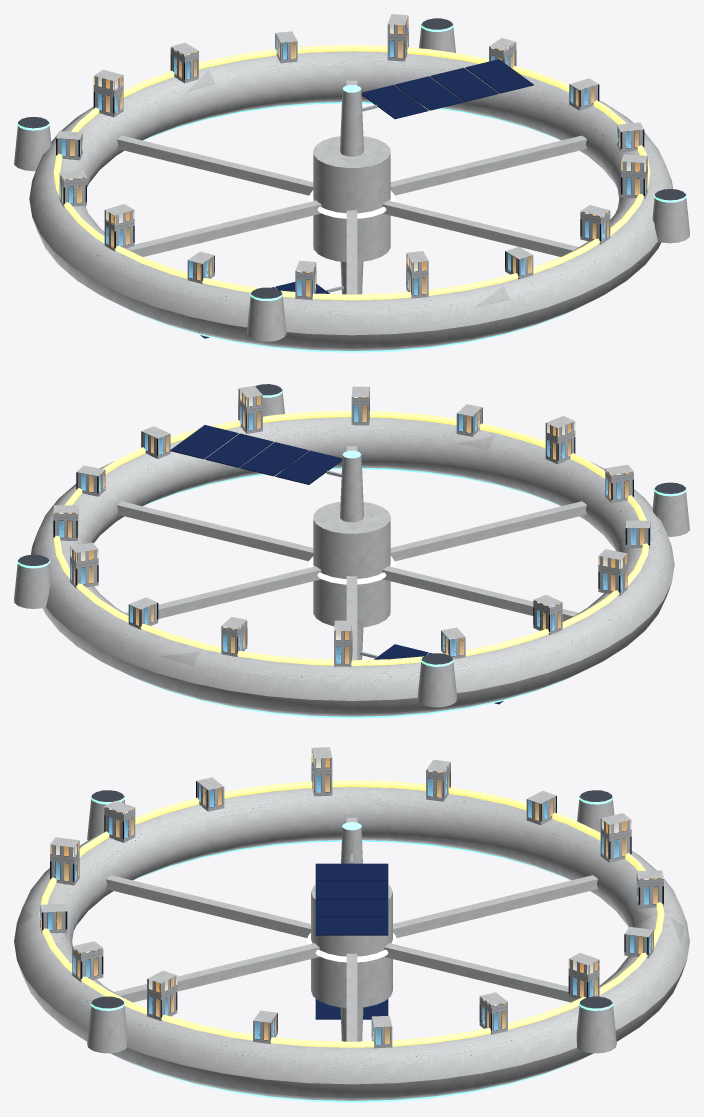
Rendered from orbital_ring_town.glb.
3 renders of one model, top to bottom at view 1: azimuth 30°, elevation 25°; view 2: azimuth 150°, elevation 25°; view 3: azimuth 270°, elevation 25°, orthographic. The views are drawn at different scales.
Parts seen in each view (by area): view 1: orbital_ring_town_LOD0; view 2: orbital_ring_town_LOD0; view 3: orbital_ring_town_LOD0.
Part boxes in pixels (x1,y1,x2,y2): orbital_ring_town_LOD0: (14, 14, 689, 352); orbital_ring_town_LOD0: (14, 384, 689, 718); orbital_ring_town_LOD0: (14, 747, 689, 1102).
Size of what is drawn, in the model's own units: 74.4 by 28 by 74.4.
Materials: 3 (3 with a texture image).
